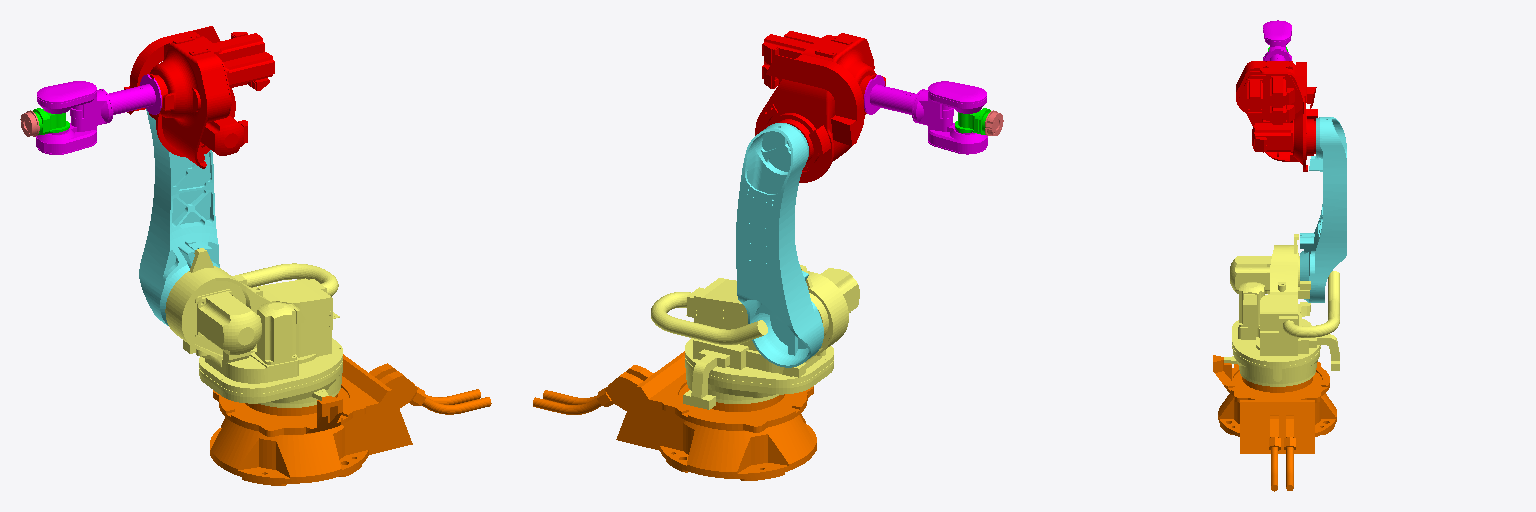
URDF robot description (comau_ns16_base_shoulder_stl):
<?xml version="1.0"?>
<robot name="comau_ns16_base_shoulder_stl">

  <!-- Base link -->
  <link name="base_link">
    <visual>
      <origin xyz="0 0 0" rpy="0 0 0"/>
      <geometry>
        <mesh filename="meshes/base_link.stl" scale="0.001 0.001 0.001"/>
      </geometry>
      <material name="orange">
        <color rgba="1 0.5 0 1"/>
      </material>
    </visual>
  </link>

  <!-- Shoulder link -->
  <link name="shoulder_link">
    <visual>
      <!-- adjust origin to match pivot in Fusion -->
      <origin xyz="0 0 0" rpy="0 0 0"/>
      <geometry>
        <mesh filename="meshes/shoulder_link.stl" scale="0.001 0.001 0.001"/>
      </geometry>
      <material name="yellow">
        <color rgba="1 1 0.5 1"/>
      </material>
    </visual>
  </link>

  <!-- UpperArm link -->
  <link name="upperarm_link">
    <visual>
      <!-- adjust origin to match pivot in Fusion -->
      <origin xyz="0 0 0" rpy="0 0 0"/>
      <geometry>
        <mesh filename="meshes/upperarm_link.stl" scale="0.001 0.001 0.001"/>
      </geometry>
      <material name="blue">
        <color rgba="0.5 1 1 1"/>
      </material>
    </visual>
  </link>

  <!-- ForeArm link -->
  <link name="forearm_link">
    <visual>
      <!-- adjust origin to match pivot in Fusion -->
      <origin xyz="0 0 0" rpy="0 0 0"/>
      <geometry>
        <mesh filename="meshes/forearm_link.stl" scale="0.001 0.001 0.001"/>
      </geometry>
      <material name="red">
        <color rgba="1 0 0 1"/>
      </material>
    </visual>
  </link>

  <!-- WristA link -->
  <link name="wrista_link">
    <visual>
      <!-- adjust origin to match pivot in Fusion -->
      <origin xyz="0 0 0" rpy="0 0 0"/>
      <geometry>
        <mesh filename="meshes/wrista_link.stl" scale="0.001 0.001 0.001"/>
      </geometry>
      <material name="purple">
        <color rgba="1 0 1 1"/>
      </material>
    </visual>
  </link>

  <!-- WristB link -->
  <link name="wristb_link">
    <visual>
      <!-- adjust origin to match pivot in Fusion -->
      <origin xyz="0 0 0" rpy="0 0 0"/>
      <geometry>
        <mesh filename="meshes/wristb_link.stl" scale="0.001 0.001 0.001"/>
      </geometry>
      <material name="green">
        <color rgba="0 1 0 1"/>
      </material>
    </visual>
  </link>

  <!-- Flange link -->
  <link name="flange_link">
    <visual>
      <!-- adjust origin to match pivot in Fusion -->
      <origin xyz="0 0 0" rpy="0 0 0"/>
      <geometry>
        <mesh filename="meshes/flange_link.stl" scale="0.001 0.001 0.001"/>
      </geometry>
      <material name="orange">
        <color rgba="1 0.5 0.5 1"/>
      </material>
    </visual>
  </link>

  <!-- Revolute joint -->
  <joint name="shoulder_pan_joint" type="revolute">
    <parent link="base_link"/>
    <child link="shoulder_link"/>
    <origin xyz="0 0 0.268" rpy="0 0 0"/>
    <axis xyz="0 0 1"/>
    <limit effort="50" velocity="1.5" lower="-3.14" upper="3.14"/>
  </joint>

  <!-- Revolute joint -->
  <joint name="shoulder_lift_joint" type="revolute">
    <parent link="shoulder_link"/>
    <child link="upperarm_link"/>
    <origin xyz="-0.300 0.105 0.332" rpy="0 0 0"/>
    <axis xyz="0 1 0"/>
    <limit effort="50" velocity="1.5" lower="-3.14" upper="3.14"/>
  </joint>

  <!-- Revolute joint -->
  <joint name="elbow_joint" type="revolute">
    <parent link="upperarm_link"/>
    <child link="forearm_link"/>
    <origin xyz="0 0.075 0.700" rpy="0 0 0"/>
    <axis xyz="0 1 0"/>
    <limit effort="50" velocity="1.5" lower="-3.14" upper="3.14"/>
  </joint>

  <!-- Revolute joint -->
  <joint name="wrist_roll_joint" type="revolute">
    <parent link="forearm_link"/>
    <child link="wrista_link"/>
    <origin xyz="-0.238 -0.180 0.185" rpy="0 0 0"/>
    <axis xyz="1 0 0"/>
    <limit effort="50" velocity="1.5" lower="-3.14" upper="3.14"/>
  </joint>

  <!-- Revolute joint -->
  <joint name="wrist_pitch_joint" type="revolute">
    <parent link="wrista_link"/>
    <child link="wristb_link"/>
    <origin xyz="-0.386 0 -0.029" rpy="0 0 0"/>
    <axis xyz="0 0 1"/>
    <limit effort="50" velocity="1.5" lower="-3.14" upper="3.14"/>
  </joint>

  <!-- Revolute joint -->
  <joint name="wrist_yaw_joint" type="revolute">
    <parent link="wristb_link"/>
    <child link="flange_link"/>
    <origin xyz="-0.104 0 0.029" rpy="0 0 0"/>
    <axis xyz="1 0 0"/>
    <limit effort="50" velocity="1.5" lower="-3.14" upper="3.14"/>
  </joint>

</robot>

--- Facts derived from the render (not from the file) ---
Views: 3 orthographic renders of the robot side by side, from view 1: azimuth 30°, elevation 25°; view 2: azimuth 150°, elevation 25°; view 3: azimuth 270°, elevation 25°.
Robot: comau_ns16_base_shoulder_stl — 7 links, 6 joints (6 revolute); root link base_link; default pose: all joints at 0.
Visible links, largest first — view 1: shoulder_link, base_link, forearm_link, upperarm_link, wrista_link, wristb_link; view 2: base_link, upperarm_link, shoulder_link, forearm_link, wrista_link, wristb_link; view 3: shoulder_link, base_link, forearm_link, upperarm_link, wrista_link.
Boxes of the visible links, bbox=[...] form: shoulder_link: bbox=[165, 248, 342, 407]; base_link: bbox=[210, 354, 491, 485]; forearm_link: bbox=[124, 26, 274, 168]; upperarm_link: bbox=[139, 109, 219, 325]; wrista_link: bbox=[36, 74, 161, 154]; wristb_link: bbox=[33, 108, 69, 134]; base_link: bbox=[533, 351, 816, 480]; upperarm_link: bbox=[736, 123, 823, 367]; shoulder_link: bbox=[651, 265, 859, 409]; forearm_link: bbox=[755, 31, 885, 182]; wrista_link: bbox=[864, 75, 987, 154]; wristb_link: bbox=[955, 108, 990, 134]; shoulder_link: bbox=[1224, 234, 1339, 386]; base_link: bbox=[1213, 355, 1336, 491]; forearm_link: bbox=[1236, 61, 1317, 171]; upperarm_link: bbox=[1300, 117, 1346, 302]; wrista_link: bbox=[1263, 20, 1291, 60].
Bounding box of the posed robot: 1.83 × 0.621 × 1.64 m (x, y, z).
7 mesh visuals loaded from 7 distinct referenced files (7 binary STL).
